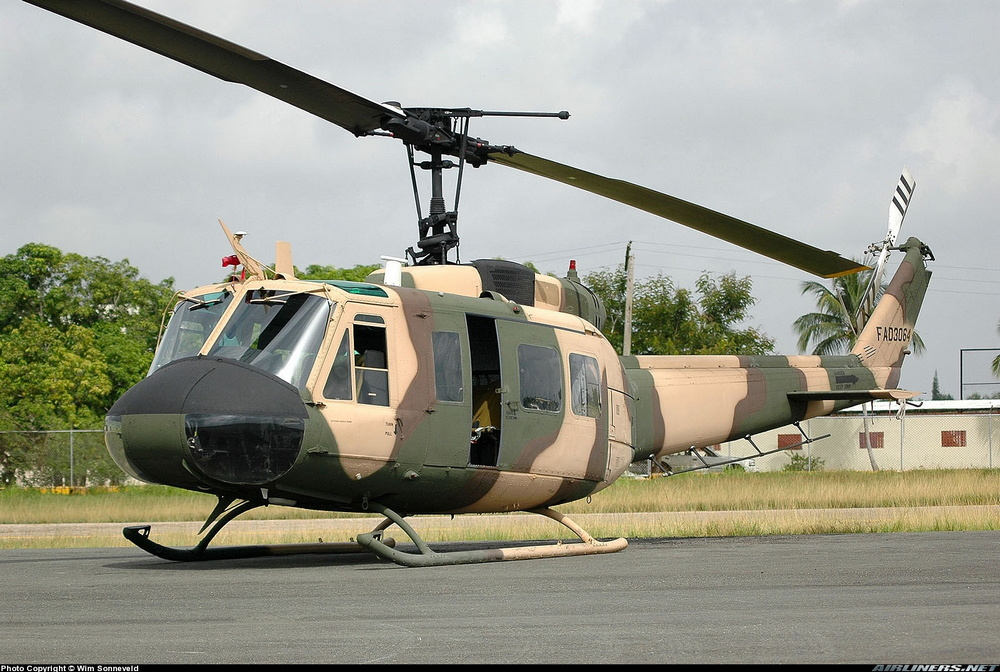Aeronef_militaire: (1, 1, 951, 565)
